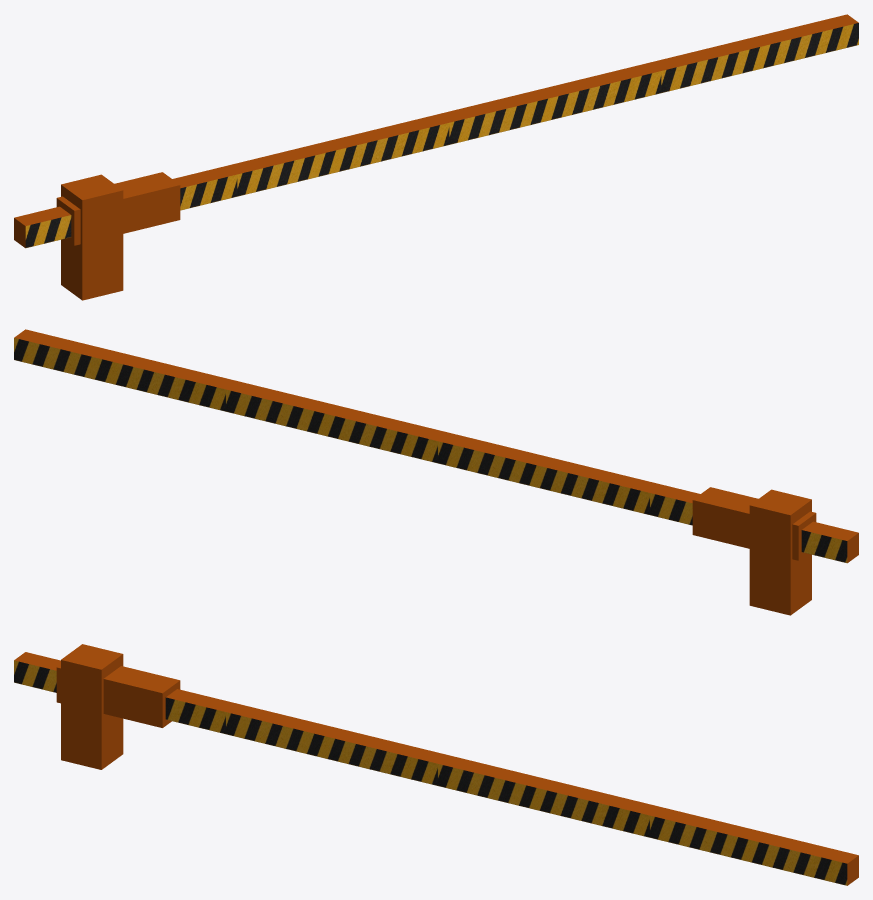
File: shlag.gltf
3 views of the same model, one above another, from view 1: azimuth 30°, elevation 25°; view 2: azimuth 150°, elevation 25°; view 3: azimuth 330°, elevation 25° (orthographic).
Visible parts, largest first — view 1: Shlagbaum_StaticMeshComponent0; view 2: Shlagbaum_StaticMeshComponent0; view 3: Shlagbaum_StaticMeshComponent0.
Boxes of the visible parts, x1,y1,x2,y2 form: Shlagbaum_StaticMeshComponent0: (14, 14, 858, 300); Shlagbaum_StaticMeshComponent0: (14, 329, 858, 615); Shlagbaum_StaticMeshComponent0: (14, 644, 858, 885).
Size of the model in its own units: 15.73 by 1.81 by 0.7068.
3 materials, 2 textured.
